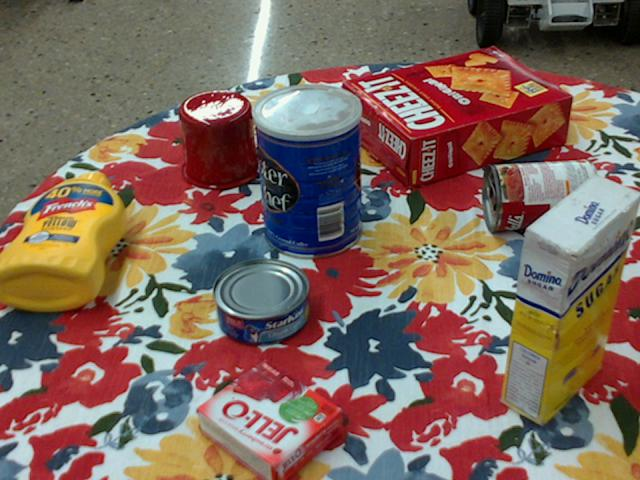cracker_box: (343, 48, 573, 189)
gelatin_box: (198, 362, 347, 479)
master_chef_can: (252, 83, 362, 258)
mug: (178, 90, 282, 190)
mustard_bottle: (0, 172, 126, 311)
sugar_box: (503, 173, 639, 426)
tomato_soup_can: (483, 158, 601, 231)
tuna_fish_can: (212, 259, 309, 346)
